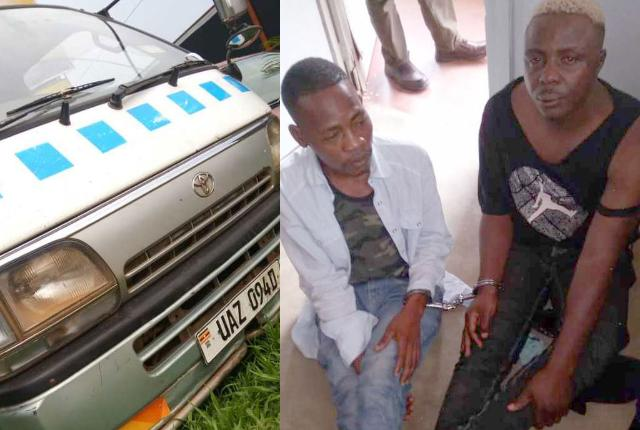van: (0, 5, 267, 429)
